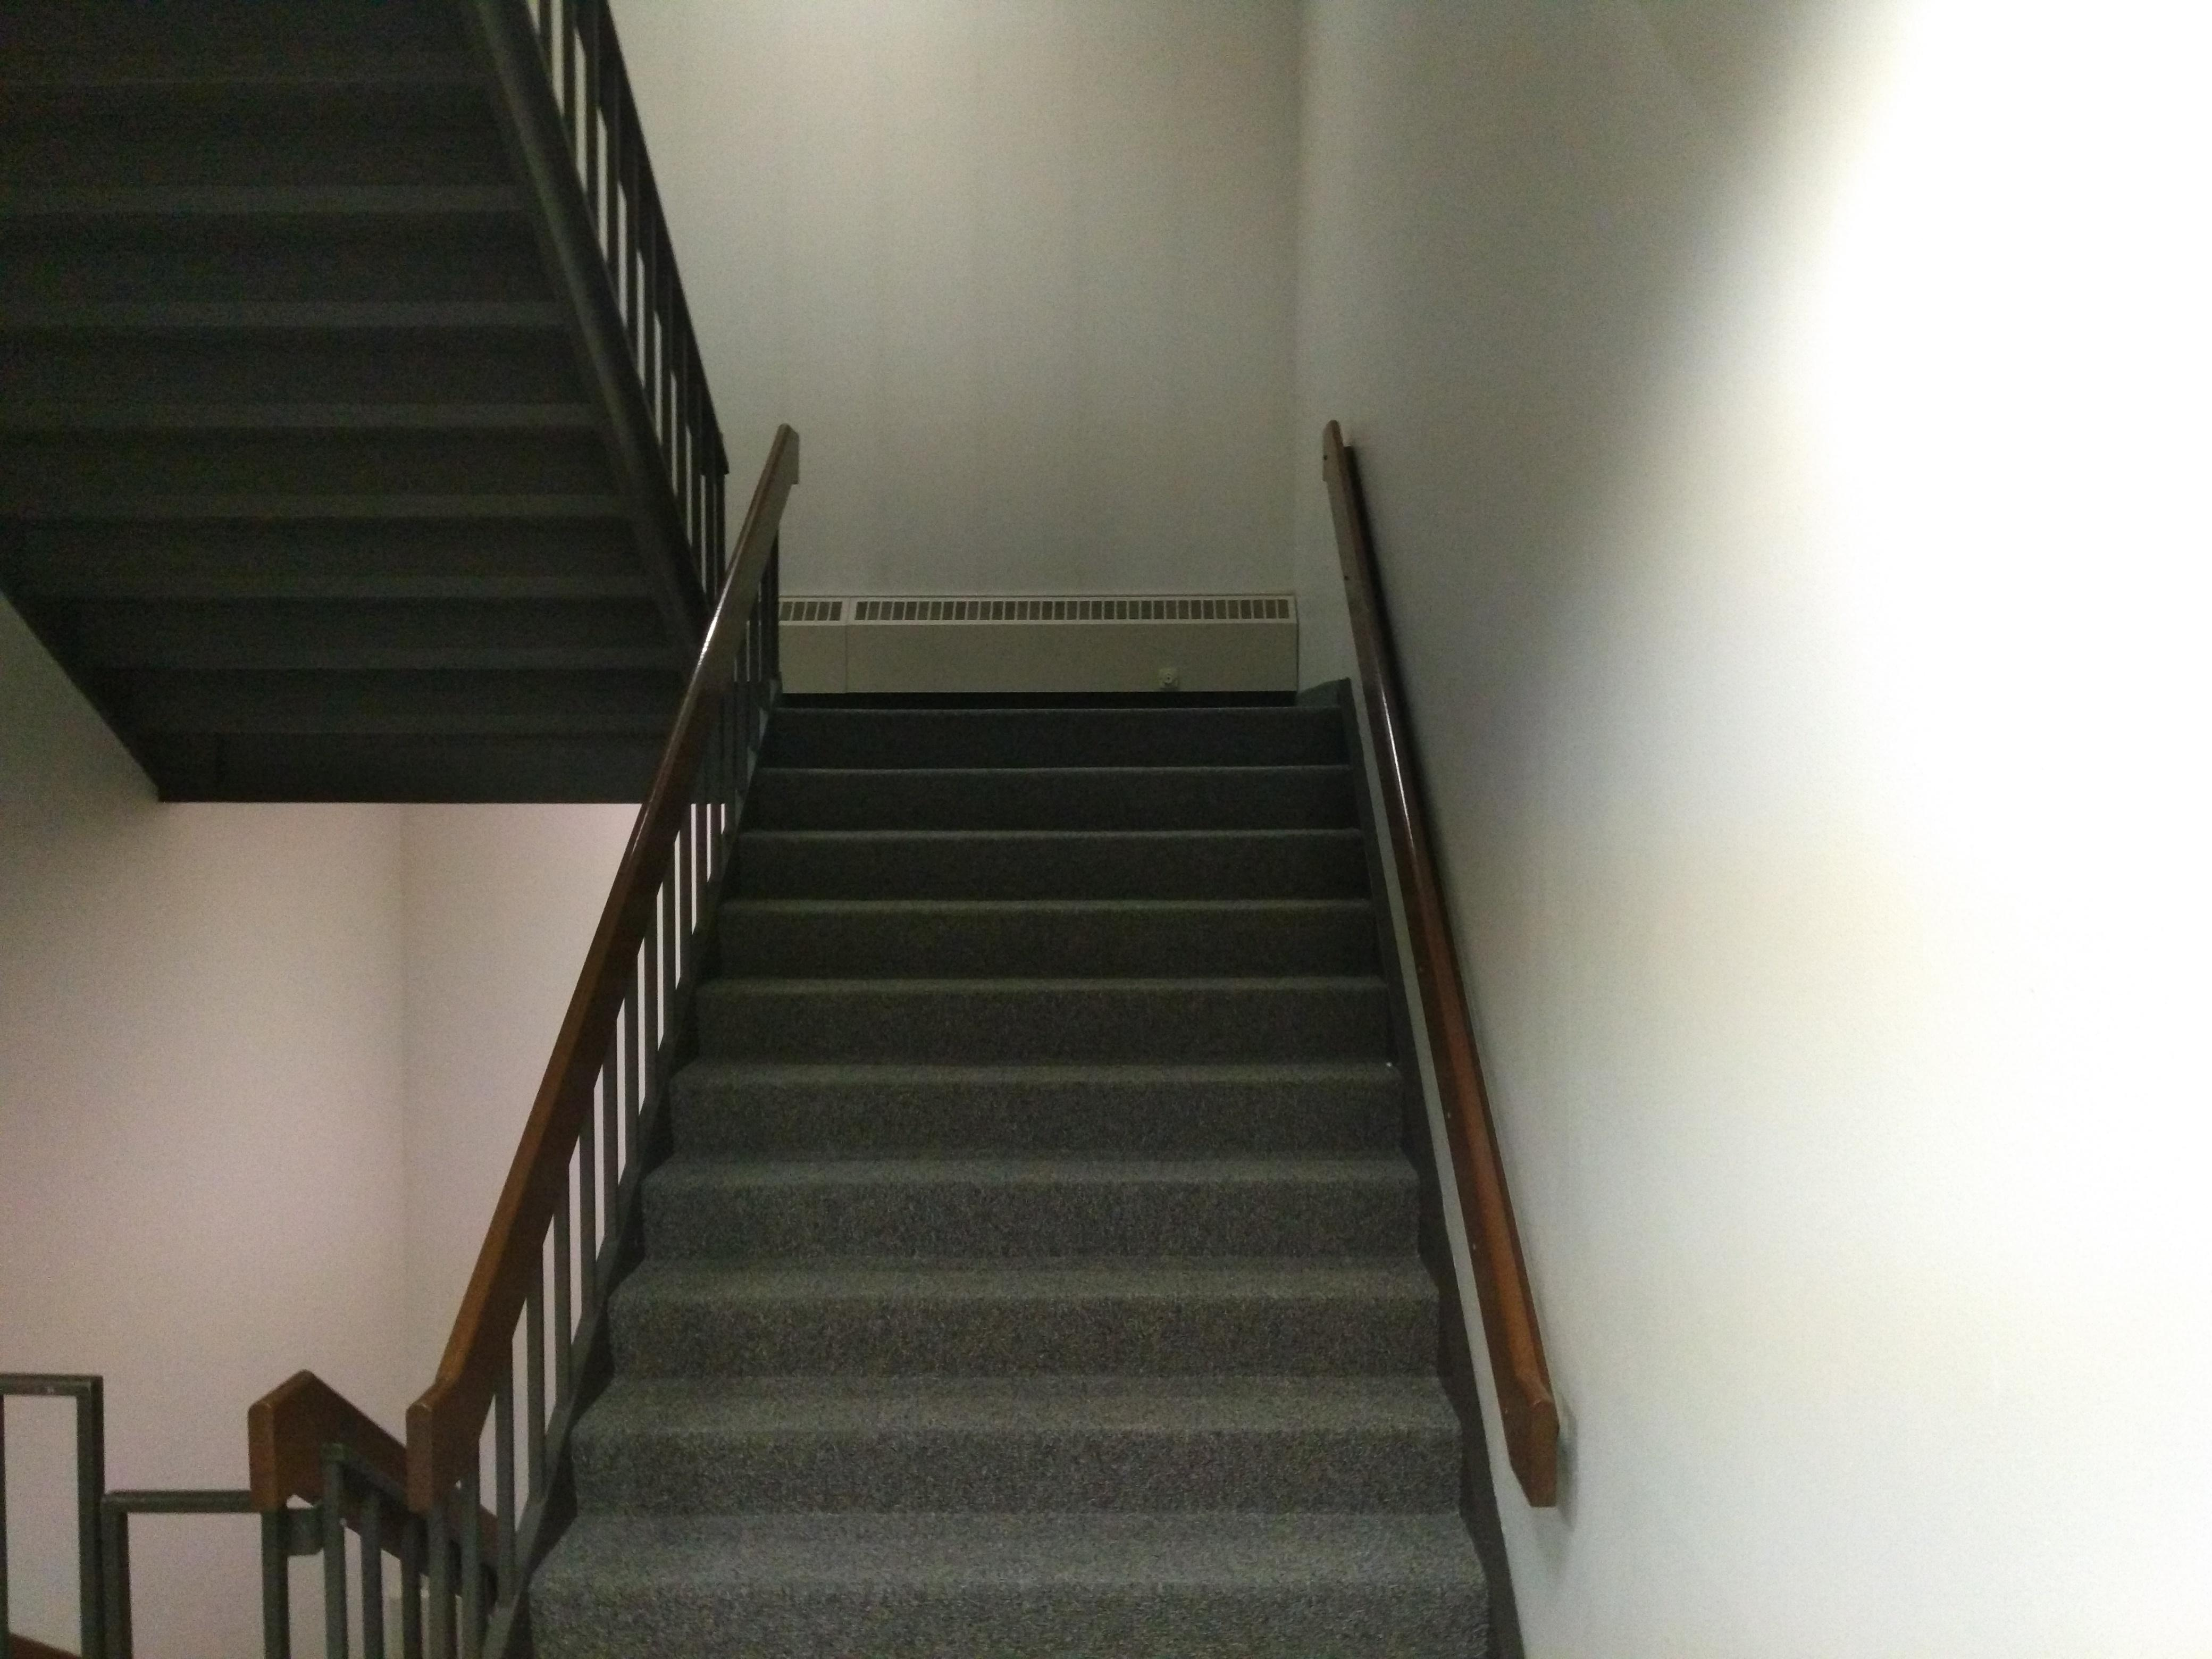stairs_up: (528, 692, 1507, 1657)
